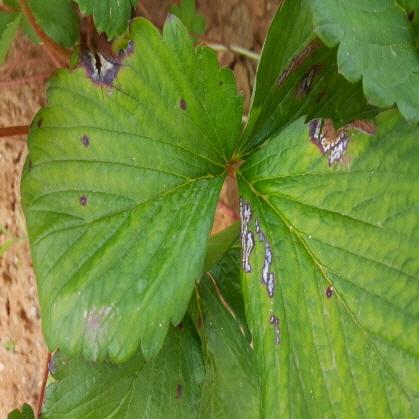Leaf Spot: (18, 12, 244, 368), (234, 109, 418, 418), (40, 219, 259, 418), (231, 0, 418, 163)
